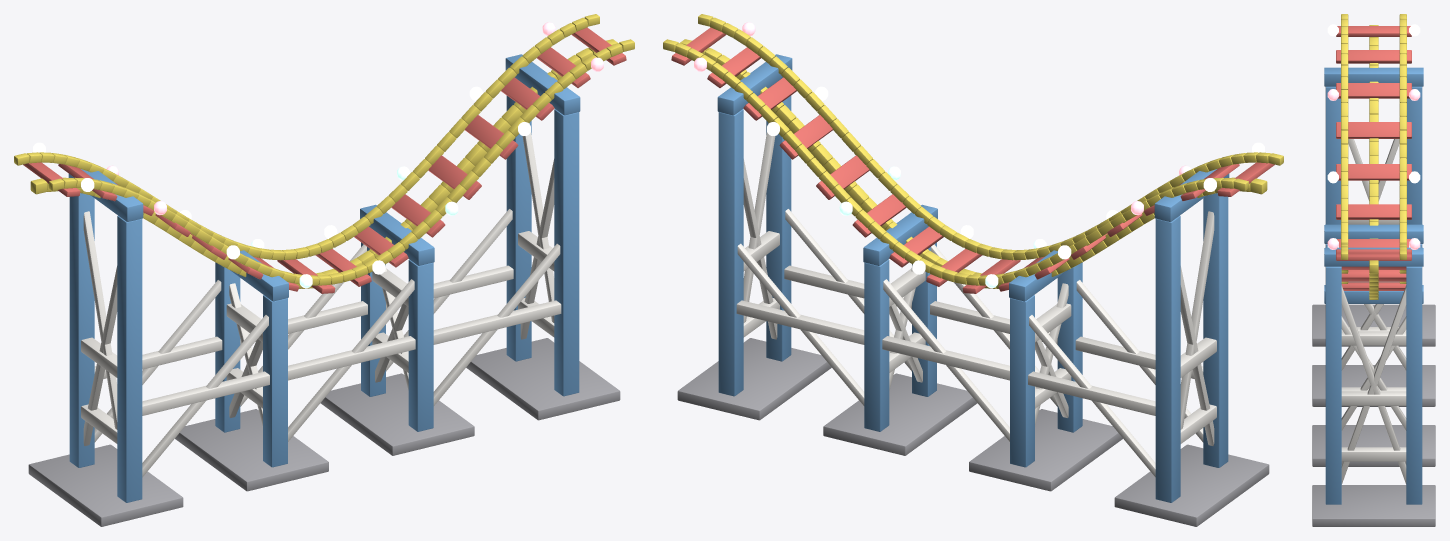
File: th13_achterbahn_modul.glb
3 views of the same model, side by side, from view 1: azimuth 30°, elevation 25°; view 2: azimuth 150°, elevation 25°; view 3: azimuth 270°, elevation 25° (orthographic). The views are drawn at different scales.
Visible parts, largest first — view 1: Cube.161, Cube.185, Cube.160, Cube.184, Cube.176, Cube.168, Cube.162, Cube.177, Cube.186, Cube.169, Cube.170, Cube.200 (+27 smaller); view 2: Cube.162, Cube.186, Cube.160, Cube.184, Cube.176, Cube.168, Cube.161, Cube.178, Cube.185, Cube.170, Cube.169, Cube.202 (+27 smaller); view 3: Cube.184, Cube.185, Cube.186, Cube.176, Cube.168, Cube.160, Cube.161, Cube.162, Cube.167, Cube.175, Cube.189, Cube.190 (+25 smaller).
Boxes of the visible parts, left/top/right/bottom form: Cube.161: left=117, top=215, right=142, bottom=502; Cube.185: left=554, top=109, right=579, bottom=396; Cube.160: left=28, top=444, right=183, bottom=526; Cube.184: left=466, top=338, right=620, bottom=420; Cube.176: left=320, top=373, right=474, bottom=455; Cube.168: left=175, top=409, right=328, bottom=491; Cube.162: left=69, top=193, right=94, bottom=467; Cube.177: left=408, top=259, right=433, bottom=431; Cube.186: left=506, top=95, right=531, bottom=361; Cube.169: left=263, top=295, right=287, bottom=467; Cube.170: left=215, top=262, right=240, bottom=432; Cube.200: left=433, top=300, right=561, bottom=344; Cube.162: left=1155, top=215, right=1180, bottom=502; Cube.186: left=718, top=109, right=743, bottom=396; Cube.160: left=1114, top=444, right=1269, bottom=526; Cube.184: left=677, top=338, right=831, bottom=420; Cube.176: left=823, top=373, right=977, bottom=455; Cube.168: left=969, top=409, right=1122, bottom=491; Cube.161: left=1203, top=193, right=1228, bottom=467; Cube.178: left=864, top=259, right=889, bottom=431; Cube.185: left=766, top=95, right=791, bottom=361; Cube.170: left=1010, top=295, right=1034, bottom=467; Cube.169: left=1057, top=262, right=1082, bottom=432; Cube.202: left=736, top=300, right=864, bottom=344; Cube.184: left=1312, top=485, right=1435, bottom=526; Cube.185: left=1325, top=266, right=1341, bottom=504; Cube.186: left=1406, top=266, right=1422, bottom=504; Cube.176: left=1312, top=425, right=1435, bottom=466; Cube.168: left=1312, top=365, right=1435, bottom=406; Cube.160: left=1312, top=304, right=1435, bottom=346; Cube.161: left=1325, top=86, right=1340, bottom=224; Cube.162: left=1407, top=86, right=1422, bottom=224; Cube.167: left=1324, top=67, right=1423, bottom=86; Cube.175: left=1324, top=224, right=1423, bottom=243; Cube.189: left=1341, top=285, right=1406, bottom=484; Cube.190: left=1341, top=285, right=1406, bottom=484.
Bounding box in the file's own units: 12 × 6.7 × 2.6.
